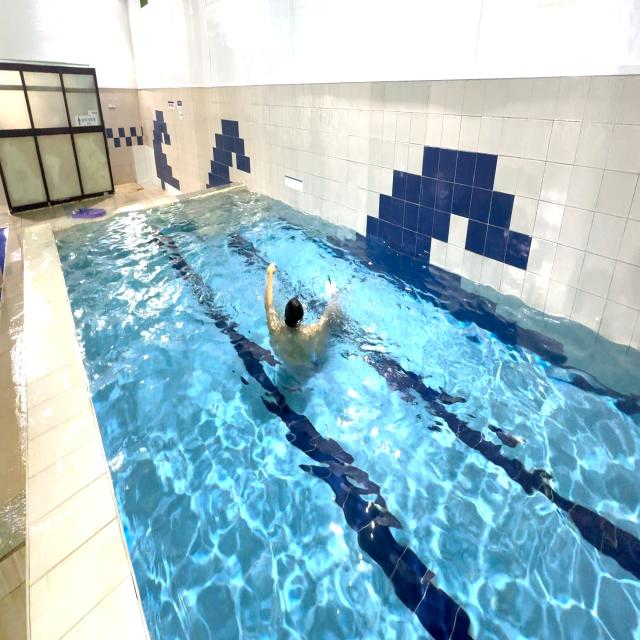Drowning: (264, 253, 339, 374)
